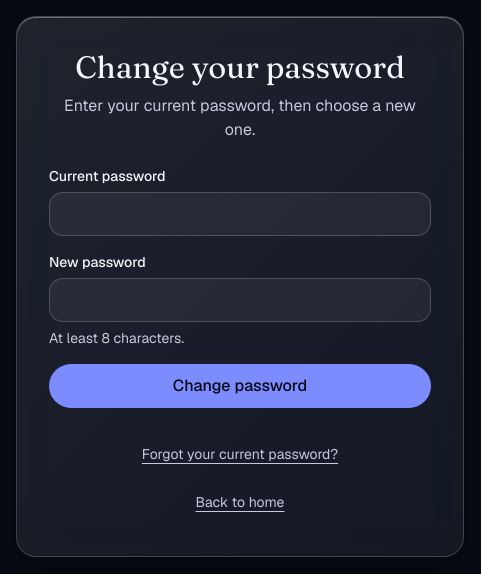
Test: Change password › sends the current and new passwords
The image size is (481, 574).
Type "a-good-password" into the password field labelled "Current password" at [240, 214], box [49,192,431,236]
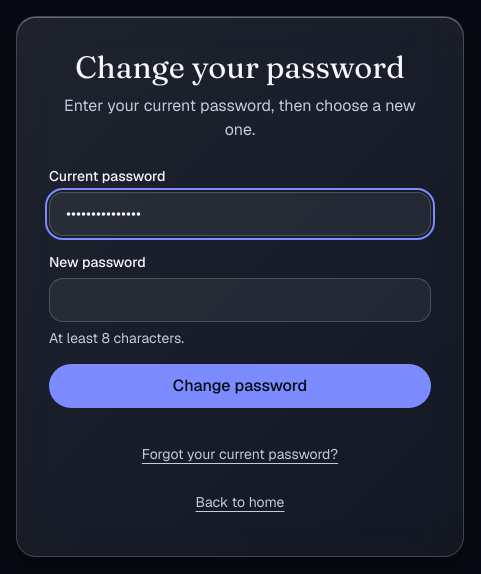
Type "a-new-password" into the password field labelled "New password" at [240, 300], box [49,278,431,322]
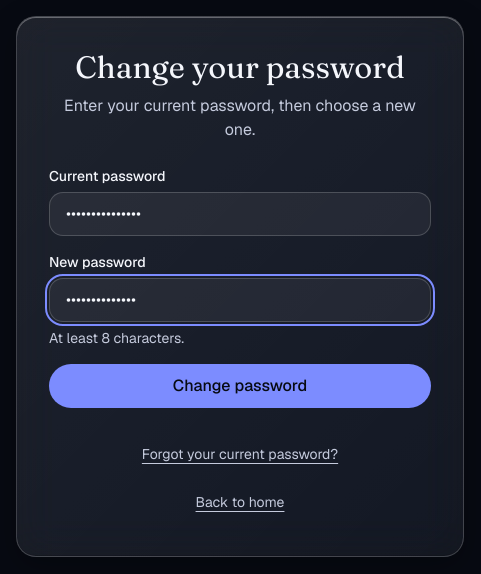
Click the button "Change password" at [240, 386], box [49,364,431,408]
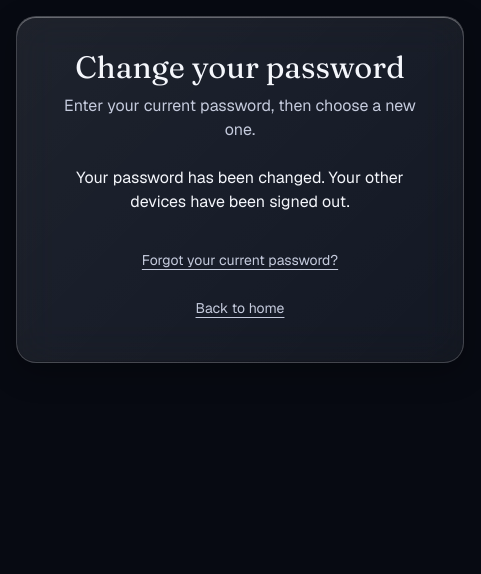
expect the message reads "Your password has been changed. Your other devices have been signed out.": met, box [76,167,404,212]
